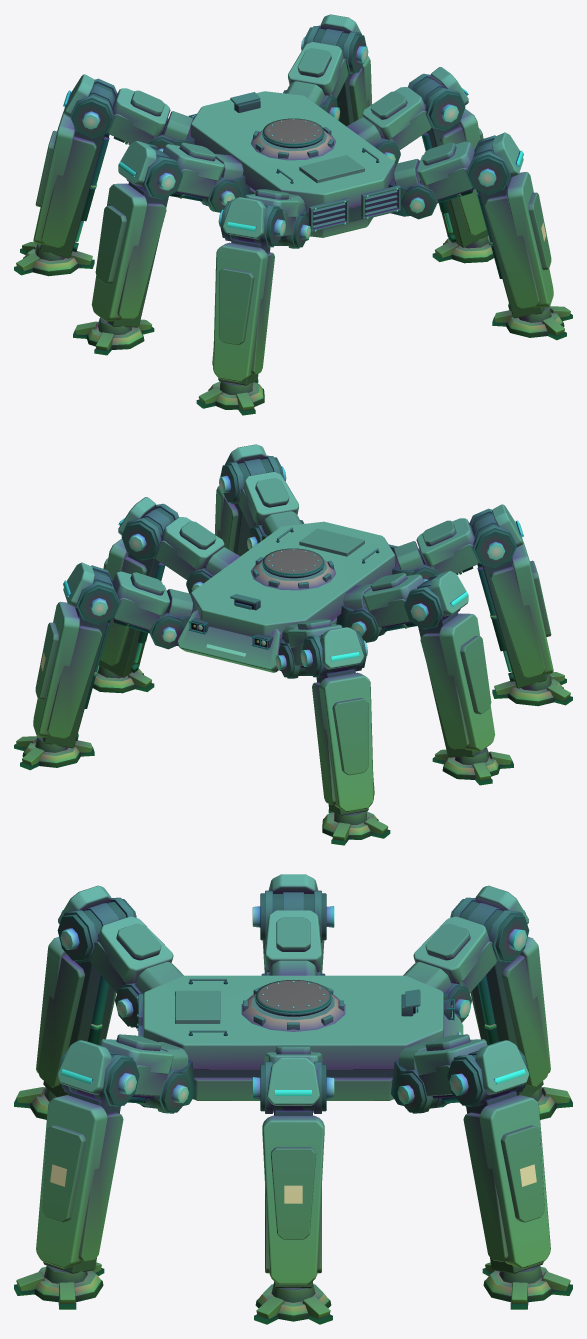
File: legs_hex.glb
3 renders of one model, top to bottom at view 1: azimuth 30°, elevation 25°; view 2: azimuth 150°, elevation 25°; view 3: azimuth 270°, elevation 25°, orthographic. The views are drawn at different scales.
Visible parts, largest first — view 1: Body__armor, Leg_2_Knee__armor_sub, Leg_4_Knee__armor, Leg_5_Knee__armor_sub, Leg_4_Knee__armor_sub, Leg_0_Knee__armor_sub, Leg_2_Knee__armor, Body__armor_sub, Body__gunmetal, Body__dark, Leg_5_Knee__armor, Leg_2_Femur__armor (+40 smaller); view 2: Body__armor, Leg_2_Knee__armor_sub, Leg_0_Knee__armor, Leg_1_Knee__armor_sub, Leg_0_Knee__armor_sub, Leg_4_Knee__armor_sub, Leg_2_Knee__armor, Leg_1_Knee__armor, Body__armor_sub, Leg_2_Femur__armor, Leg_1_Femur__armor, Leg_0_Femur__armor (+40 smaller); view 3: Body__armor, Body__armor_sub, Leg_1_Knee__armor_sub, Leg_5_Knee__armor_sub, Leg_3_Knee__armor, Leg_1_Knee__armor, Leg_5_Knee__armor, Leg_3_Knee__armor_sub, Body__dark, Leg_0_Knee__armor_sub, Leg_4_Knee__armor_sub, Leg_1_Femur__armor (+43 smaller).
Part boxes in pixels (left/top/right/bottom): Body__armor: left=190, top=91, right=395, bottom=212; Leg_2_Knee__armor_sub: left=95, top=203, right=166, bottom=319; Leg_4_Knee__armor: left=213, top=242, right=267, bottom=382; Leg_5_Knee__armor_sub: left=484, top=192, right=551, bottom=308; Leg_4_Knee__armor_sub: left=212, top=252, right=274, bottom=374; Leg_0_Knee__armor_sub: left=35, top=130, right=96, bottom=247; Leg_2_Knee__armor: left=91, top=183, right=147, bottom=321; Body__armor_sub: left=250, top=130, right=373, bottom=237; Body__gunmetal: left=189, top=92, right=400, bottom=232; Body__dark: left=192, top=99, right=397, bottom=228; Leg_5_Knee__armor: left=506, top=172, right=553, bottom=307; Leg_2_Femur__armor: left=118, top=141, right=224, bottom=186; Body__armor: left=177, top=521, right=395, bottom=672; Leg_2_Knee__armor_sub: left=420, top=633, right=491, bottom=749; Leg_0_Knee__armor: left=319, top=672, right=373, bottom=812; Leg_1_Knee__armor_sub: left=35, top=622, right=102, bottom=738; Leg_0_Knee__armor_sub: left=312, top=682, right=374, bottom=804; Leg_4_Knee__armor_sub: left=490, top=560, right=551, bottom=677; Leg_2_Knee__armor: left=439, top=613, right=495, bottom=751; Leg_1_Knee__armor: left=33, top=602, right=80, bottom=737; Body__armor_sub: left=251, top=528, right=364, bottom=624; Leg_2_Femur__armor: left=362, top=571, right=468, bottom=616; Leg_1_Femur__armor: left=63, top=562, right=170, bottom=615; Leg_0_Femur__armor: left=288, top=624, right=363, bottom=669; Body__armor: left=143, top=975, right=463, bottom=1069; Body__armor_sub: left=175, top=990, right=393, bottom=1100; Leg_1_Knee__armor_sub: left=463, top=1112, right=544, bottom=1261; Leg_5_Knee__armor_sub: left=42, top=1112, right=123, bottom=1261; Leg_3_Knee__armor: left=262, top=1115, right=324, bottom=1284; Leg_1_Knee__armor: left=479, top=1095, right=550, bottom=1268; Leg_5_Knee__armor: left=36, top=1095, right=107, bottom=1268; Leg_3_Knee__armor_sub: left=265, top=1147, right=321, bottom=1273; Body__dark: left=188, top=980, right=450, bottom=1077; Leg_0_Knee__armor_sub: left=470, top=955, right=548, bottom=1087; Leg_4_Knee__armor_sub: left=38, top=955, right=116, bottom=1087; Leg_1_Femur__armor: left=413, top=1039, right=528, bottom=1094.
Bounding box in the file's own units: 4.51 × 1.92 × 4.2.
